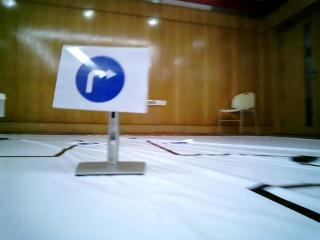right: (60, 45, 145, 112)
